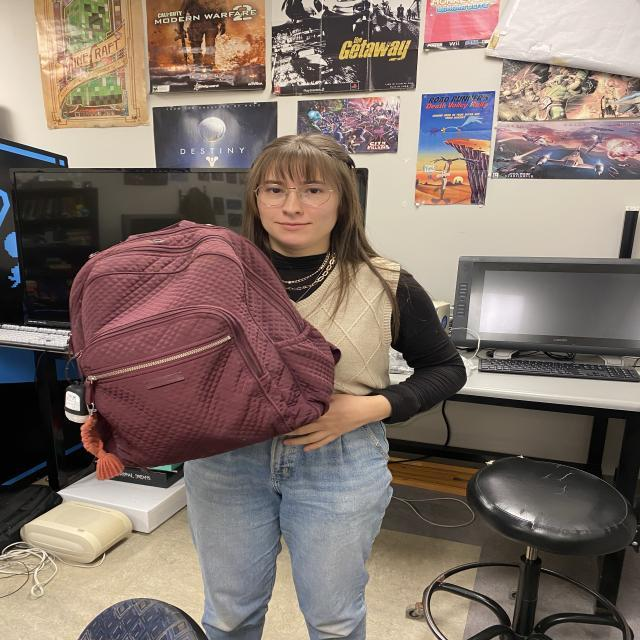Backpacks: (65, 220, 342, 473)
